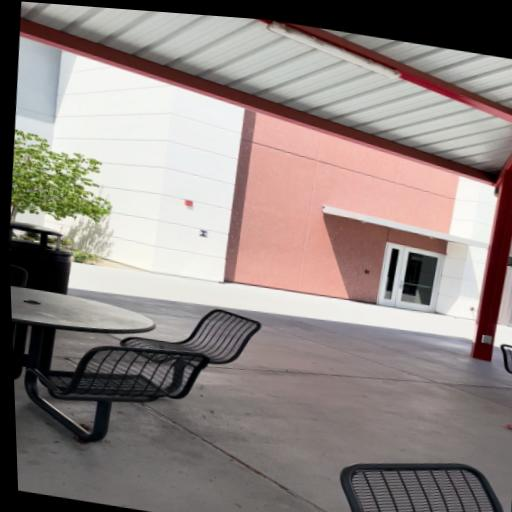target2: (199, 230, 209, 237)
